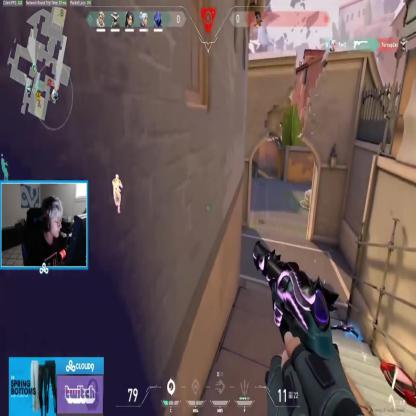enemy: (111, 174, 123, 213)
enemy_head: (116, 174, 118, 181)
